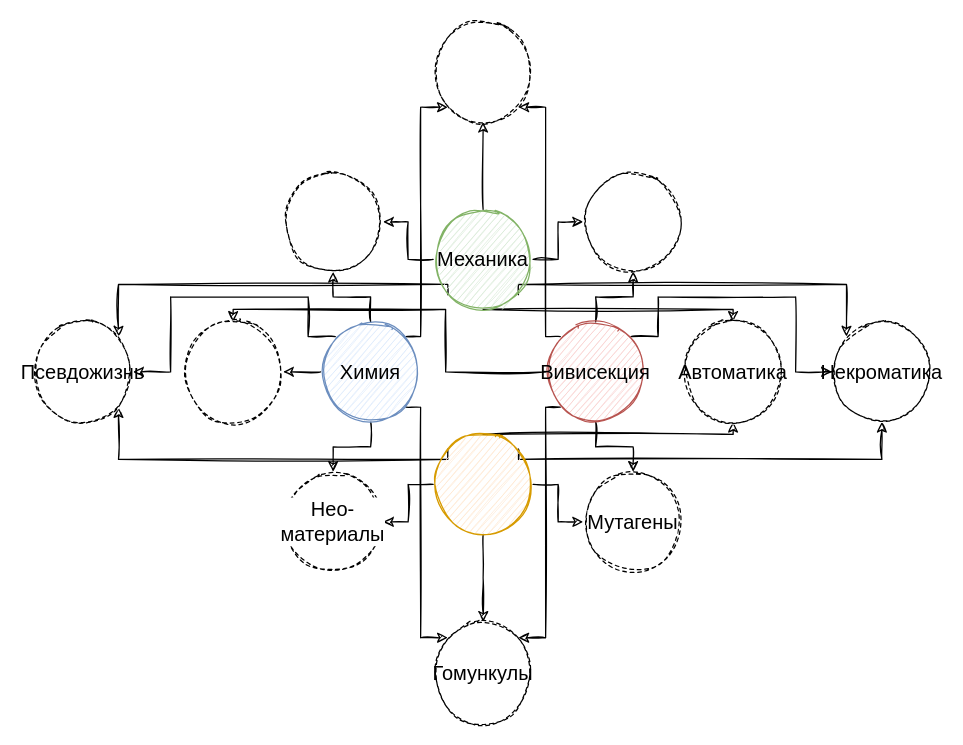
Image size: 963x745. Some labels were removed from this diagram. The box of each missing label's shape, as (x1, y1, x2, y2) in pixels:
Ампли-фикации: (432, 21, 533, 122)
Аугментации: (582, 171, 683, 272)
Зачарование: (432, 433, 533, 534)
Реактивы: (282, 171, 383, 272)
Химеры: (182, 321, 283, 422)
